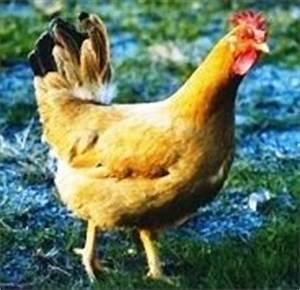hen: (26, 7, 270, 286)
